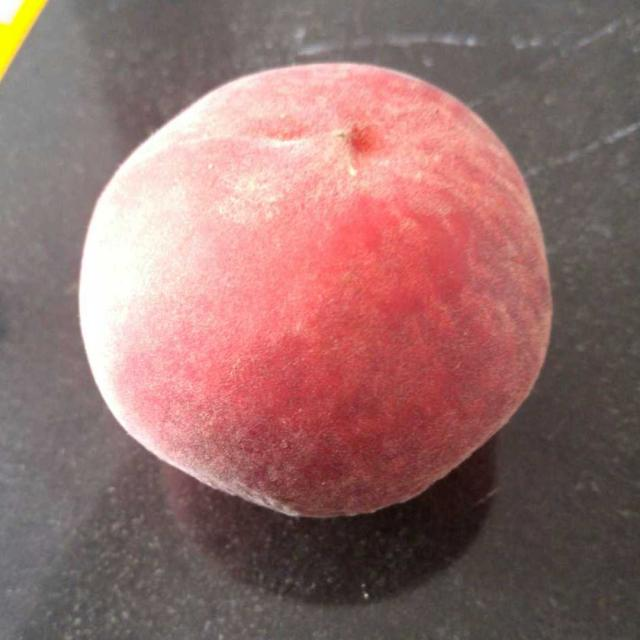peach: (100, 71, 538, 502)
